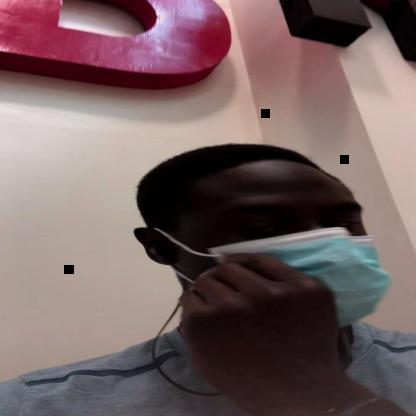mask: (157, 179, 390, 330)
